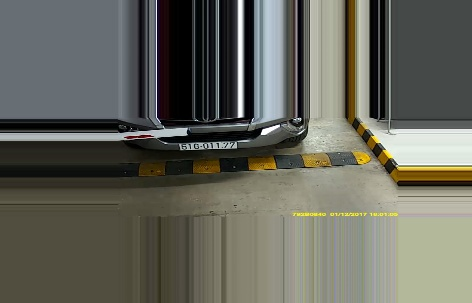plate: (179, 140, 239, 149)
